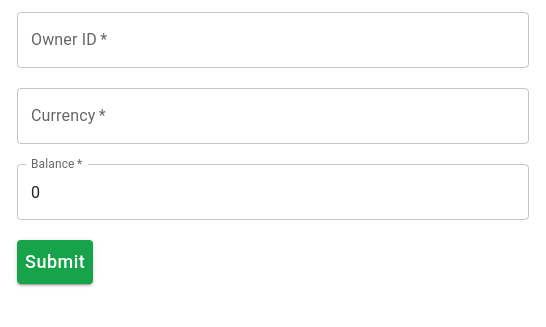
Test: AccountForm › shows validation error for non-numeric balance
The image size is (546, 327).
Type "abc" into the field labelled "Balance *" at {"x": 273, "y": 192}, box [17,164,529,220]
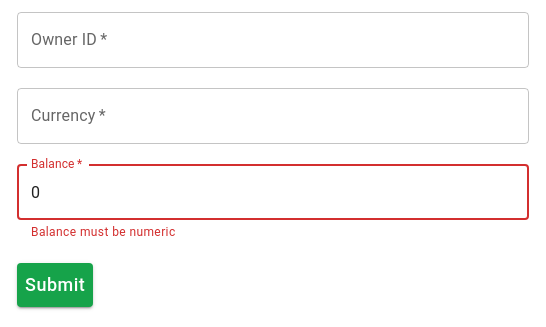
Check: the text "Balance must be numeric" is shown, box [31,225,176,239]
